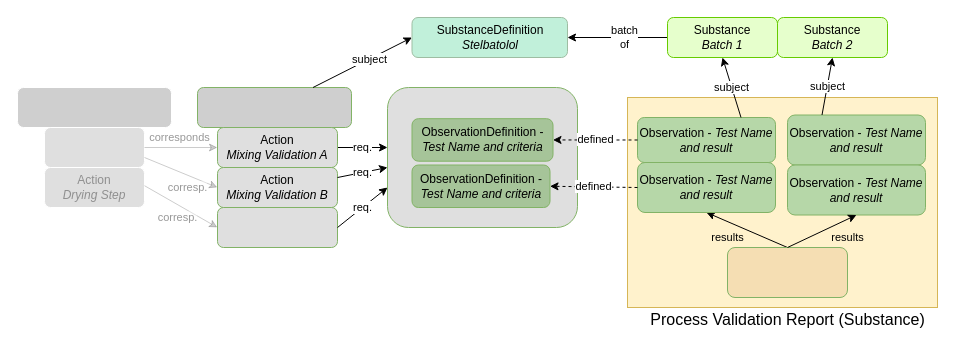
The diagram is 955 pixels wide and 355 high, and some of its shapes have lost their labels. Each missing label, with the box of its shape:
Action Drying Validation: (216, 206, 338, 248)
Action Mixing Step: (44, 126, 144, 168)
ActivityDefinition: (386, 86, 578, 228)
DiagnosticReport List of values and conclusion: (726, 246, 848, 298)
PlanDefinition Manufacturing: (16, 86, 172, 128)
PlanDefinition Process Validation: (196, 86, 352, 128)
